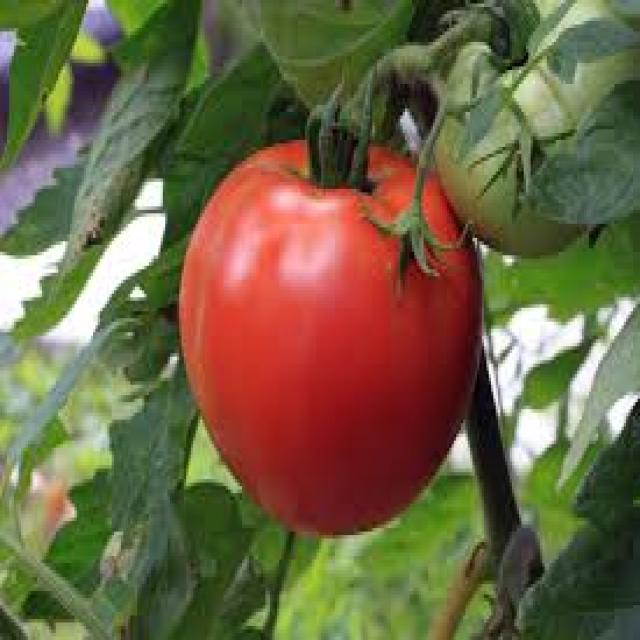organic waste: (174, 122, 482, 542), (430, 0, 638, 259)
